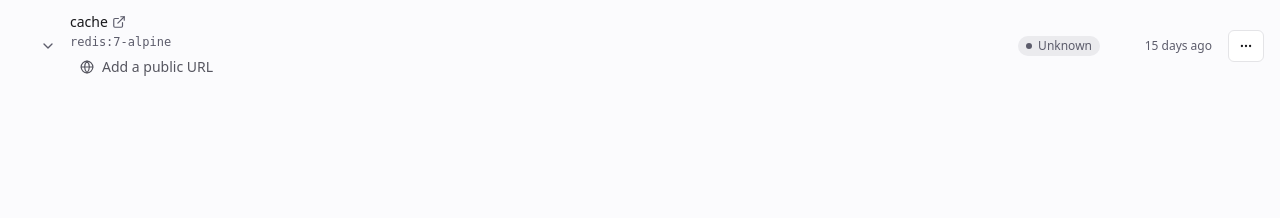
Test: ContainerRow › explains itself instead of streaming when there is no deployment
What coordinates should you click on to do the following:
click the 1st button
I would click on:
 (48, 46)
Its box is [34,32,62,60].
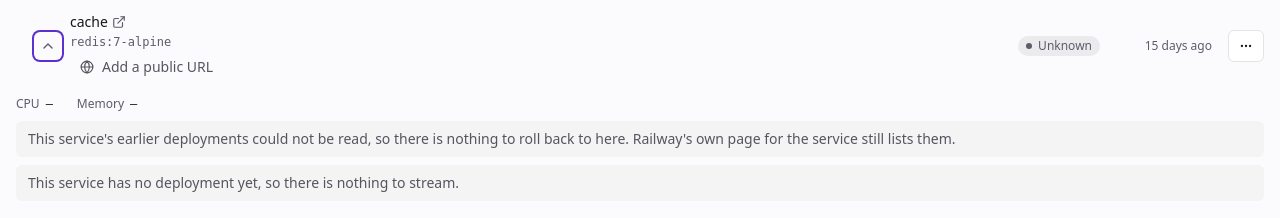
Check: the text "This service has no deployment yet, so there is nothing to stream." is shown, box [16,165,1264,201]
